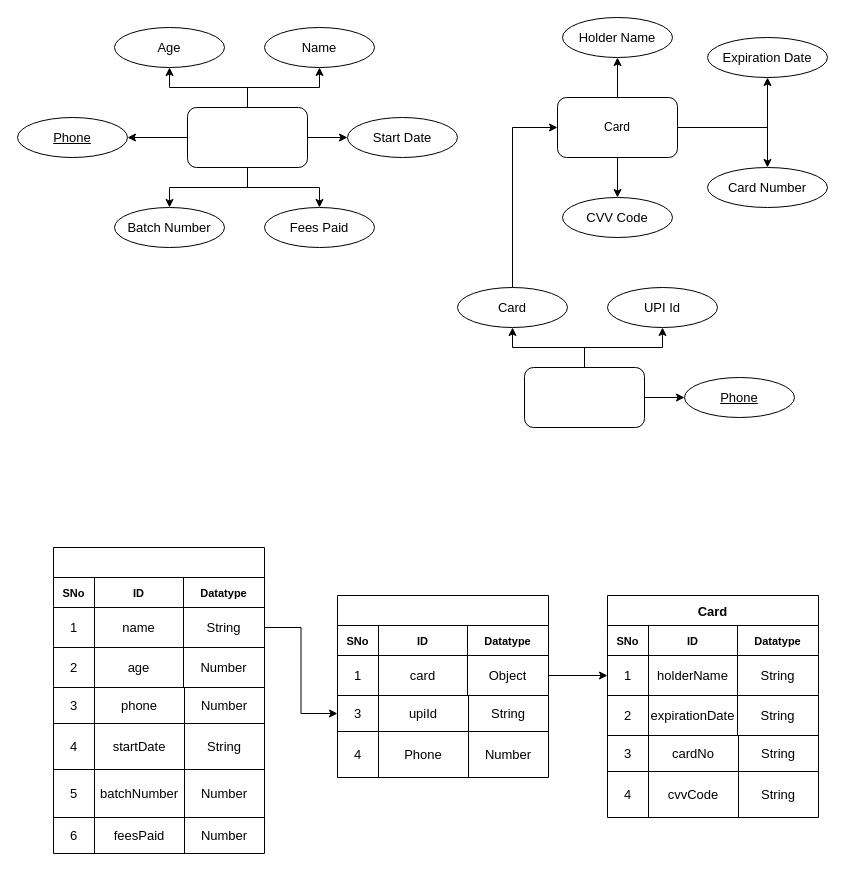
The diagram is 845 pixels wide and 871 high, and some of its shapes have lost their labels. Each missing label, with the box of its shape:
Yoga Payment: (524, 366, 644, 428)
Yoga User: (186, 106, 308, 168)
YogaPayment: (336, 594, 548, 696)
YogaUser: (52, 546, 264, 688)
